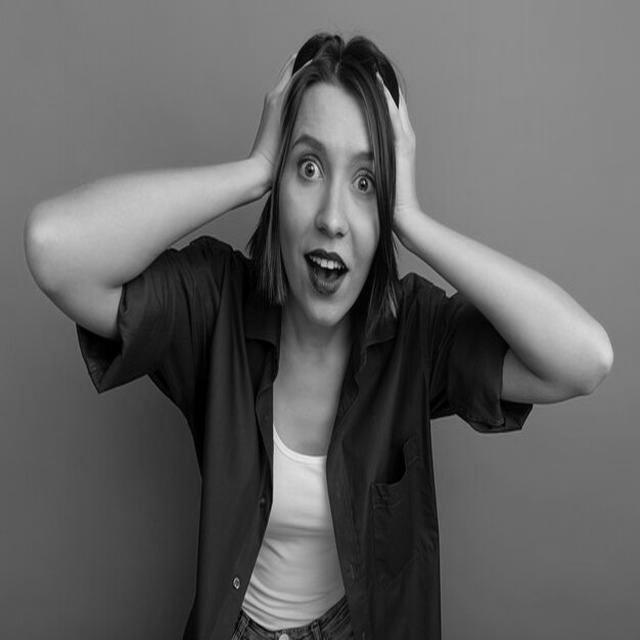Surprised: (278, 84, 381, 327)
